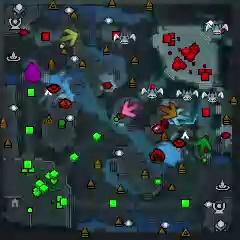p3: (25, 62, 41, 83)
x1: (123, 101, 139, 117)
x2: (61, 29, 78, 46)
x3: (171, 107, 188, 126)
x4: (195, 137, 211, 155)
x5: (160, 103, 177, 119)
